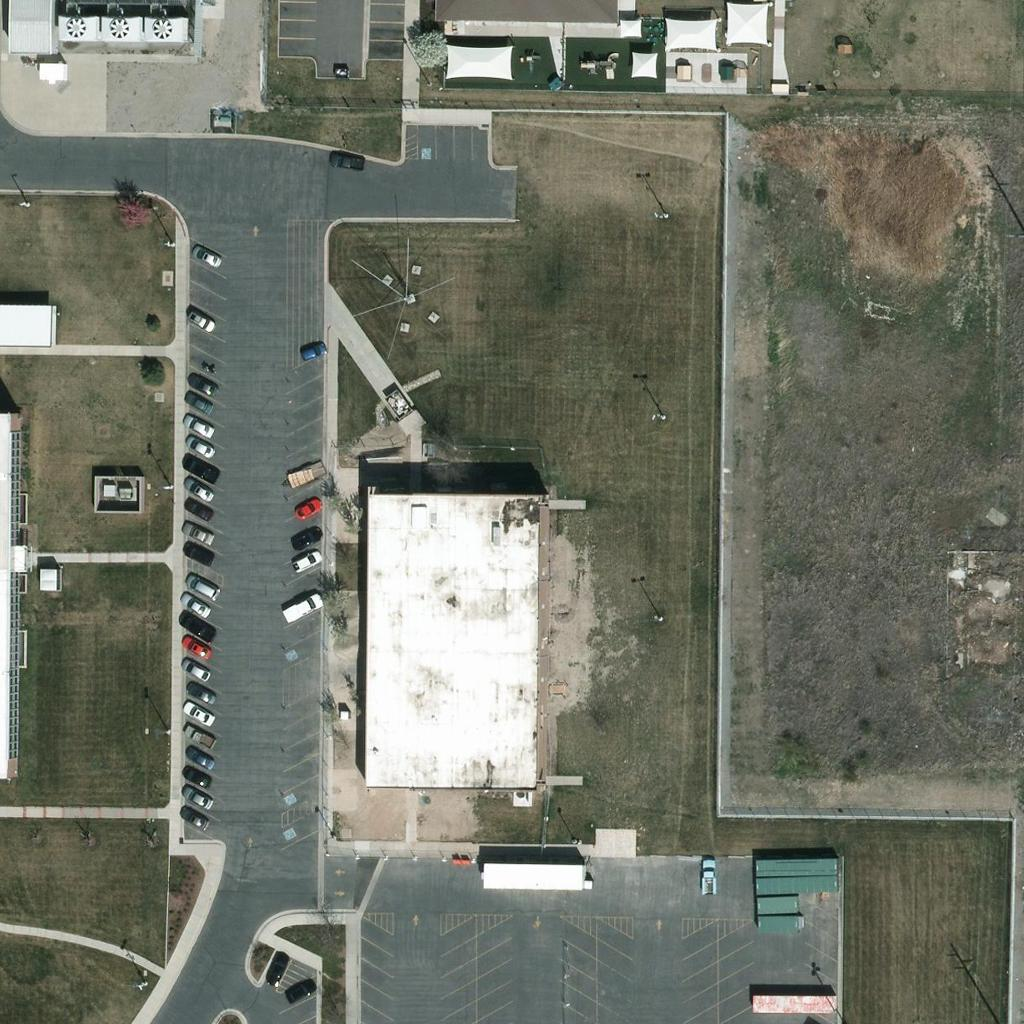car: (327, 144, 361, 178), (188, 238, 222, 272), (181, 301, 215, 335), (292, 335, 326, 369), (188, 368, 222, 402), (181, 385, 215, 419), (179, 408, 213, 442), (181, 429, 215, 463), (179, 451, 213, 485), (181, 473, 215, 507), (182, 490, 216, 524), (289, 490, 323, 524), (290, 491, 324, 525), (180, 515, 214, 549), (287, 522, 321, 556), (178, 533, 212, 567), (287, 544, 321, 578), (183, 569, 217, 603), (178, 588, 212, 622), (286, 589, 320, 623), (178, 609, 212, 643), (178, 630, 212, 664), (178, 653, 212, 687), (181, 676, 215, 710), (181, 697, 215, 731), (179, 717, 213, 751), (182, 741, 216, 775), (178, 758, 212, 792), (178, 780, 212, 814), (177, 800, 211, 834), (690, 856, 724, 890), (259, 948, 293, 982), (282, 973, 316, 1007)
